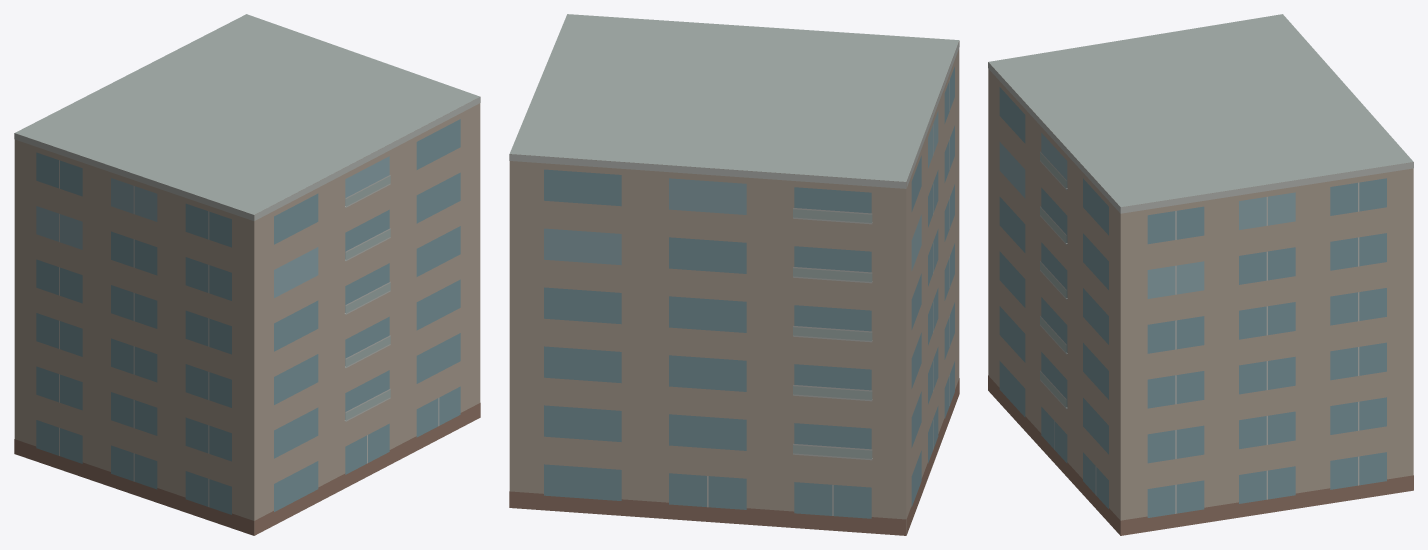
File: survey-upis-32984527.glb
3 renders of one model, left to right at view 1: azimuth 30°, elevation 25°; view 2: azimuth 150°, elevation 25°; view 3: azimuth 270°, elevation 25°, orthographic. The views are drawn at different scales.
Parts seen in each view (by area): view 1: survey-upis-32984527.tmp; view 2: survey-upis-32984527.tmp; view 3: survey-upis-32984527.tmp.
Part boxes in pixels (x1,y1,x2,y2): survey-upis-32984527.tmp: (14,14,480,535); survey-upis-32984527.tmp: (509,14,959,535); survey-upis-32984527.tmp: (988,14,1413,535).
Bounding box in the file's own units: 15.65 × 12.4 × 14.56.
